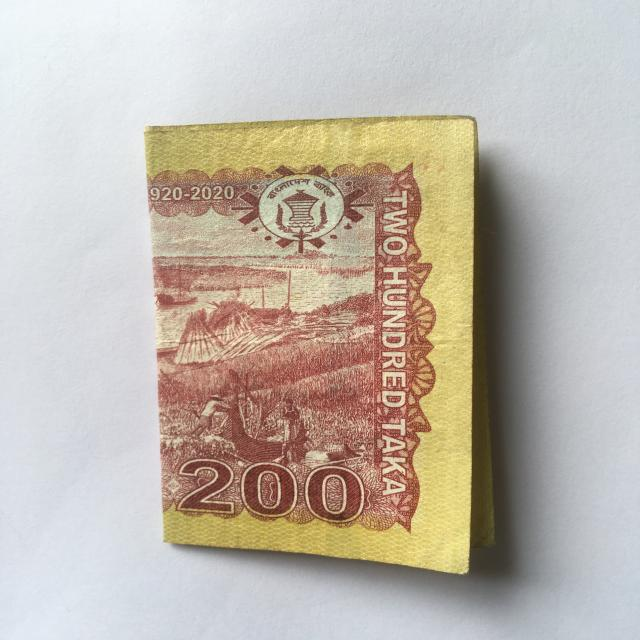Taka: (136, 110, 498, 575)
